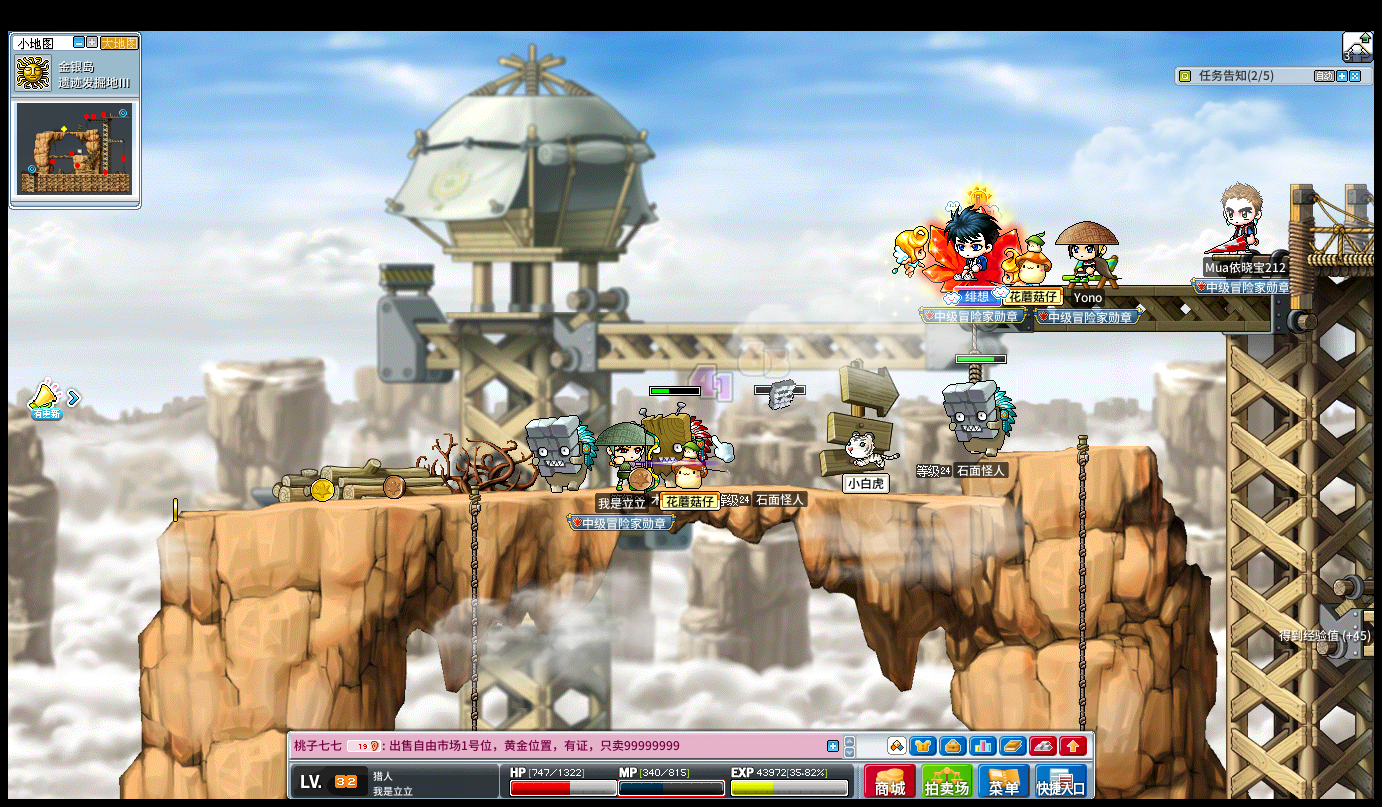floor: (162, 480, 1013, 512), (157, 480, 1069, 503), (1003, 443, 1156, 457)
monster: (942, 379, 1017, 456), (525, 414, 597, 493)
rope: (1074, 431, 1089, 727), (468, 482, 480, 676)
